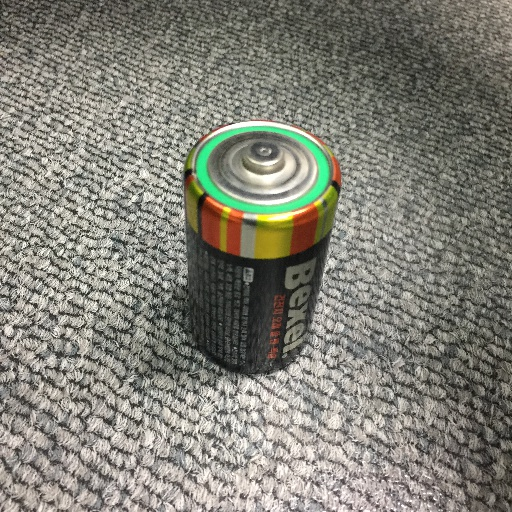Battery_0: (168, 114, 350, 390)
